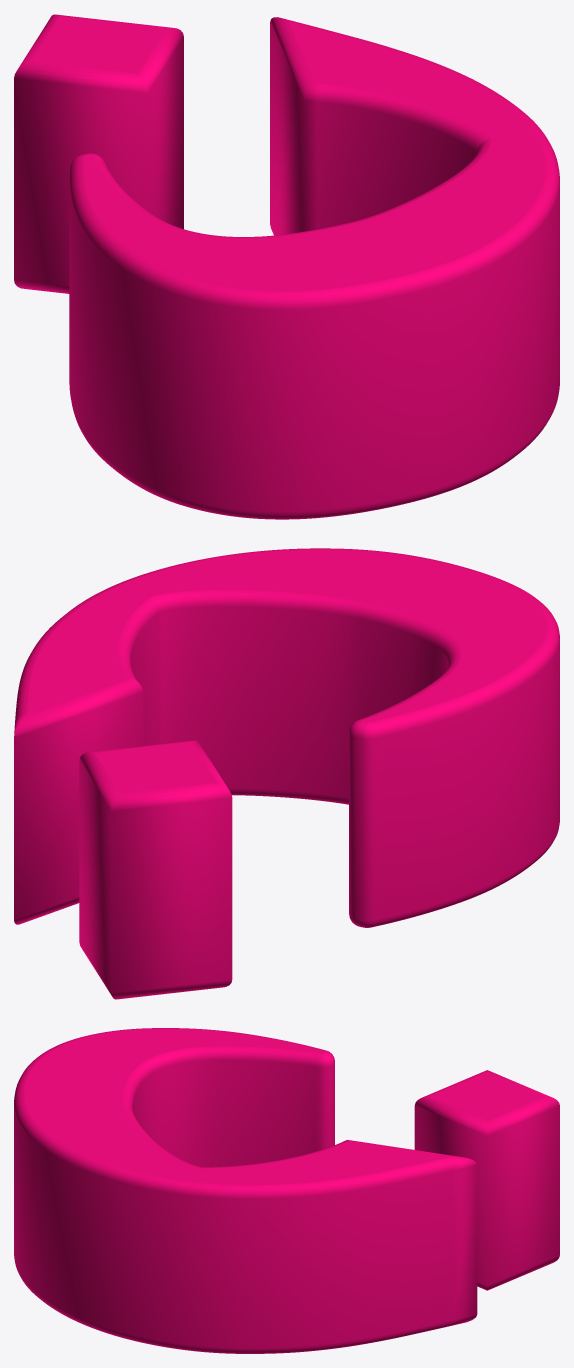
Rendered from 25 nun.fbx.
3 views of the same model, one above another, from view 1: azimuth 30°, elevation 25°; view 2: azimuth 150°, elevation 25°; view 3: azimuth 270°, elevation 25° (orthographic). The views are drawn at different scales.
Visible parts, largest first — view 1: Text.038; view 2: Text.038; view 3: Text.038.
Part boxes in pixels (x1,y1,x2,y2): Text.038: [14, 14, 559, 519]; Text.038: [14, 548, 559, 999]; Text.038: [14, 1028, 559, 1353].
Size of the model in its own units: 37.92 by 18 by 53.03.
